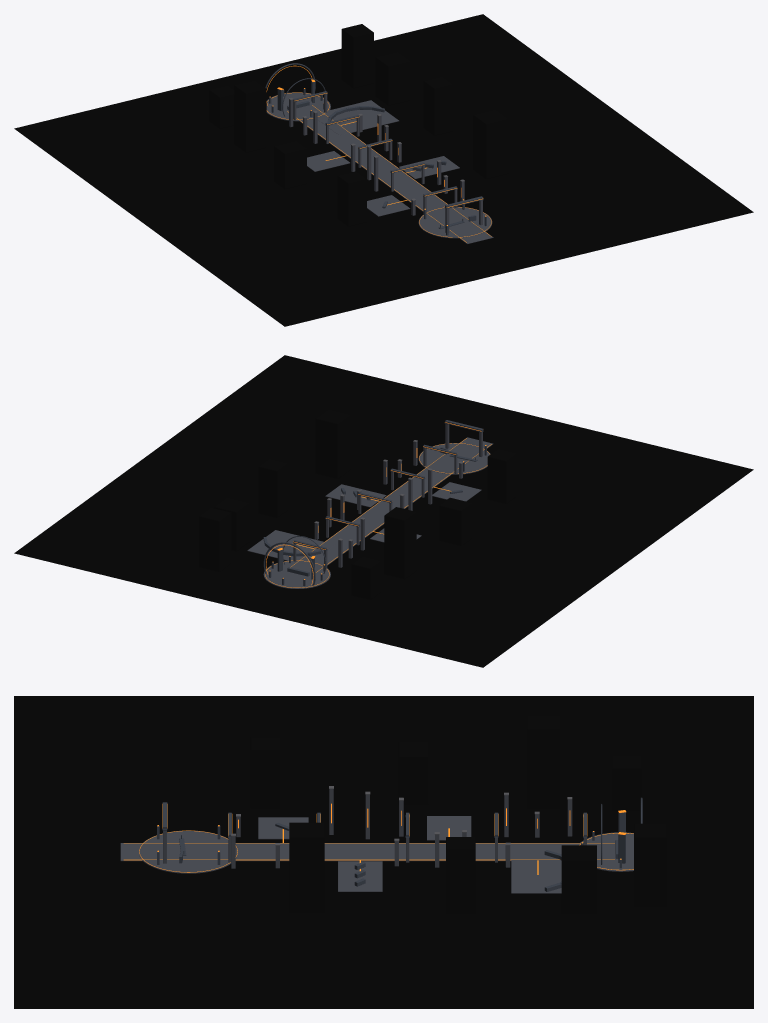
Rendered from world.glb.
3 views of the same model, one above another, from view 1: azimuth 30°, elevation 25°; view 2: azimuth 150°, elevation 25°; view 3: azimuth 270°, elevation 25° (orthographic). The views are drawn at different scales.
Visible parts, largest first — view 1: Ground, Boulevard, Backdrop1, Backdrop4, Backdrop7, Backdrop5, Backdrop3, PlazaDisc, Backdrop0, Backdrop2, ProjectsPad, CoreDisc (+4 smaller); view 2: Ground, Boulevard, Backdrop1, Backdrop4, Backdrop7, Backdrop3, Backdrop0, PlazaDisc, Backdrop2, CoreDisc, ProjectsPad, Backdrop6 (+3 smaller); view 3: Ground, Boulevard, Backdrop1, Backdrop4, PlazaDisc, Backdrop7, Backdrop5, Backdrop3, Backdrop0, Backdrop2, ProjectsPad, Backdrop6 (+5 smaller).
Boxes of the visible parts, bbox=[...] form: Ground: bbox=[14, 14, 753, 326]; Boulevard: bbox=[299, 119, 493, 243]; Backdrop1: bbox=[473, 109, 508, 178]; Backdrop4: bbox=[234, 80, 266, 152]; Backdrop7: bbox=[341, 24, 373, 88]; Backdrop5: bbox=[375, 52, 410, 105]; Backdrop3: bbox=[423, 76, 452, 135]; PlazaDisc: bbox=[418, 206, 492, 238]; Backdrop0: bbox=[337, 171, 366, 226]; Backdrop2: bbox=[274, 141, 306, 188]; ProjectsPad: bbox=[317, 100, 398, 135]; CoreDisc: bbox=[266, 92, 330, 121]; Ground: bbox=[14, 355, 753, 667]; Boulevard: bbox=[315, 437, 493, 565]; Backdrop1: bbox=[315, 409, 350, 478]; Backdrop4: bbox=[384, 507, 416, 579]; Backdrop7: bbox=[199, 507, 231, 571]; Backdrop3: bbox=[258, 458, 287, 517]; Backdrop0: bbox=[487, 448, 516, 503]; PlazaDisc: bbox=[418, 443, 490, 474]; Backdrop2: bbox=[439, 497, 472, 545]; CoreDisc: bbox=[263, 560, 330, 588]; ProjectsPad: bbox=[247, 530, 334, 564]; Backdrop6: bbox=[351, 556, 380, 599]; Ground: bbox=[14, 696, 753, 1008]; Boulevard: bbox=[120, 843, 579, 861]; Backdrop1: bbox=[289, 822, 324, 912]; Backdrop4: bbox=[527, 715, 559, 808]; PlazaDisc: bbox=[138, 830, 238, 873]; Backdrop7: bbox=[634, 823, 666, 906]; Backdrop5: bbox=[561, 845, 596, 913]; Backdrop3: bbox=[446, 837, 475, 913]; Backdrop0: bbox=[250, 737, 280, 808]; Backdrop2: bbox=[398, 741, 428, 804]; ProjectsPad: bbox=[511, 853, 561, 893]; Backdrop6: bbox=[612, 756, 641, 810].
Size of the model in its own units: 250 by 38.65 by 250.
7 materials, 2 textured.
